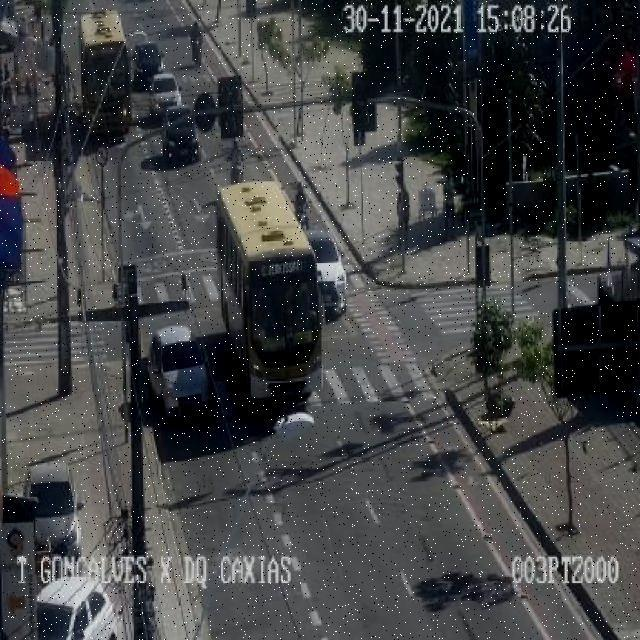Bus: (215, 181, 322, 405), (78, 9, 130, 145)
Car: (147, 324, 211, 422), (35, 577, 126, 638), (27, 458, 81, 558), (294, 220, 352, 312), (161, 110, 201, 168), (132, 42, 164, 90), (148, 72, 184, 113)
